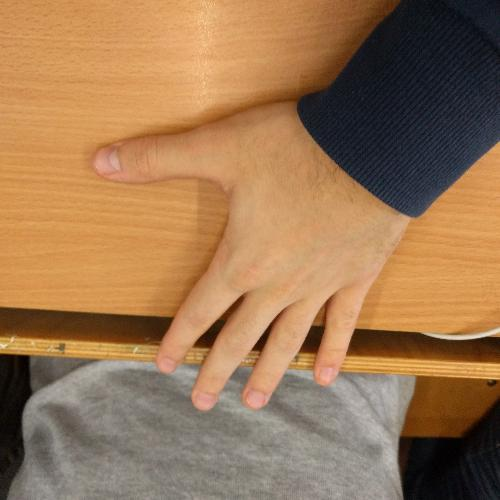paper: (78, 83, 430, 416)
